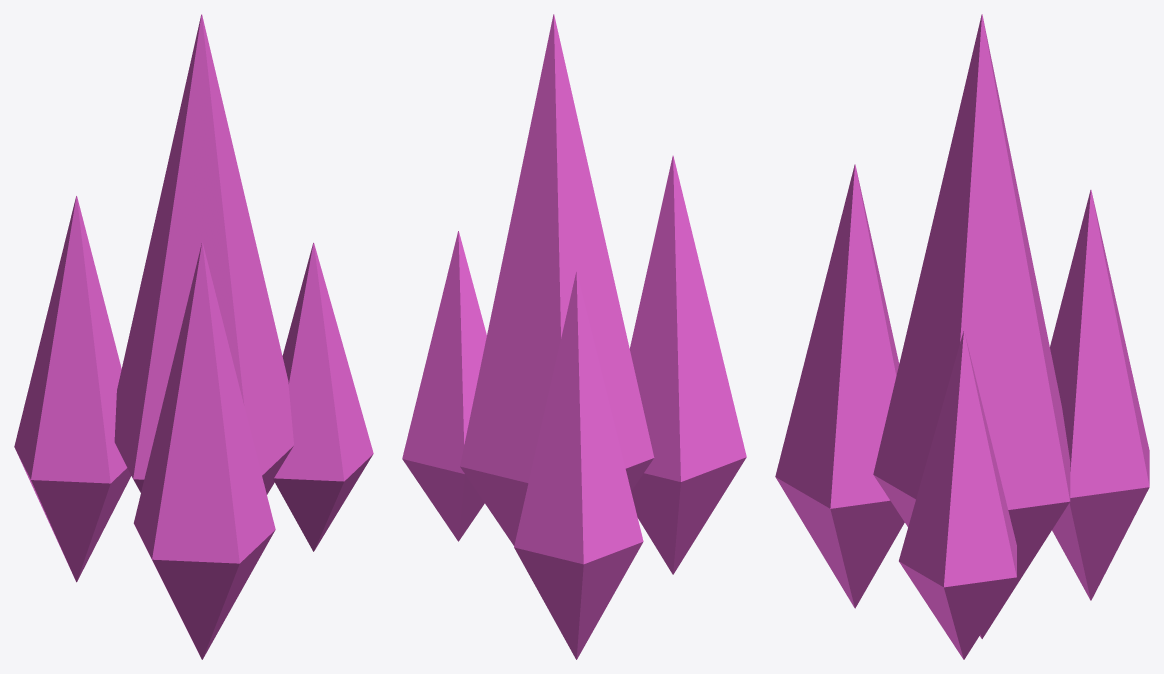
Rendered from rts.crystal.glb.
The picture shows the model from 3 angles, left to right: view 1: azimuth 30°, elevation 25°; view 2: azimuth 150°, elevation 25°; view 3: azimuth 270°, elevation 25°; orthographic projection. The views are drawn at different scales.
Visible parts, largest first — view 1: rts.crystal; view 2: rts.crystal; view 3: rts.crystal.
Part boxes in pixels (bbox=[...]): rts.crystal: bbox=[14, 14, 373, 659]; rts.crystal: bbox=[402, 14, 746, 659]; rts.crystal: bbox=[775, 14, 1149, 659].
Size of the model in its own units: 0.9614 by 1.9 by 1.03.
